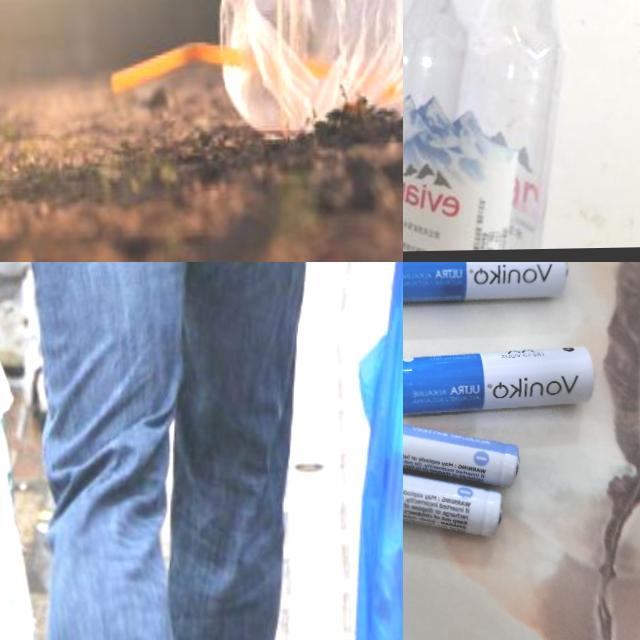bateria: (403, 344, 595, 416), (403, 410, 520, 488), (403, 454, 502, 539), (403, 262, 569, 302)
garrafa plástica: (403, 0, 567, 251)
sacola plástica: (194, 0, 403, 204), (337, 262, 403, 640)
